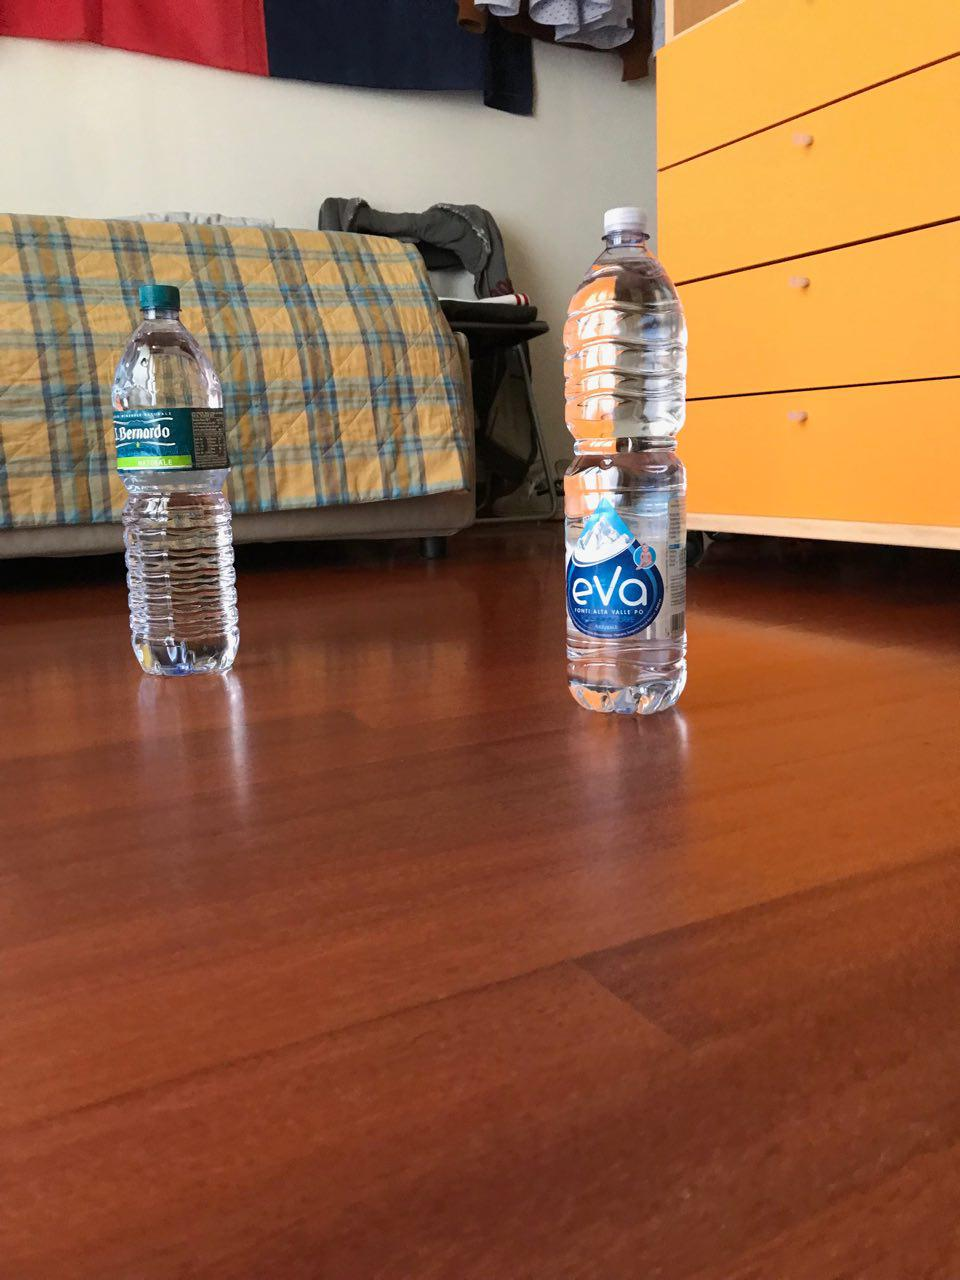san_bernardo: (110, 285, 241, 677)
